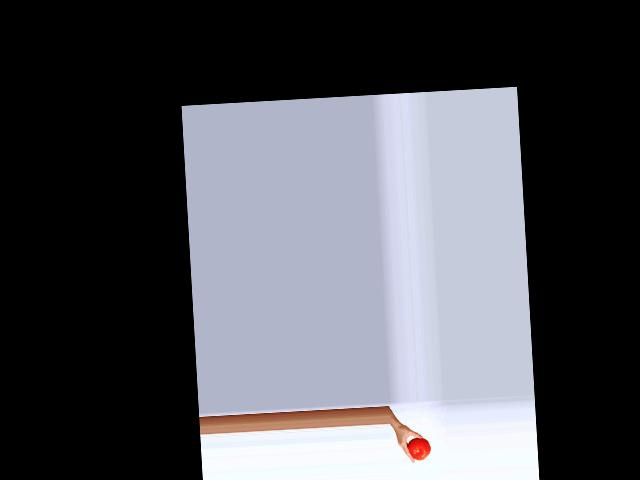tomato: (407, 437, 431, 461)
